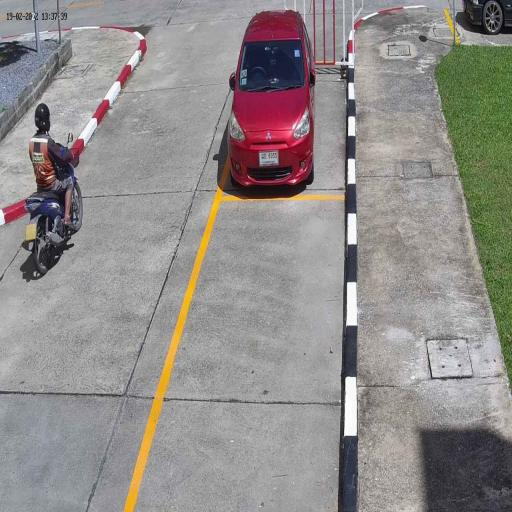car: (227, 9, 316, 189)
motorcycle: (24, 176, 84, 276)
